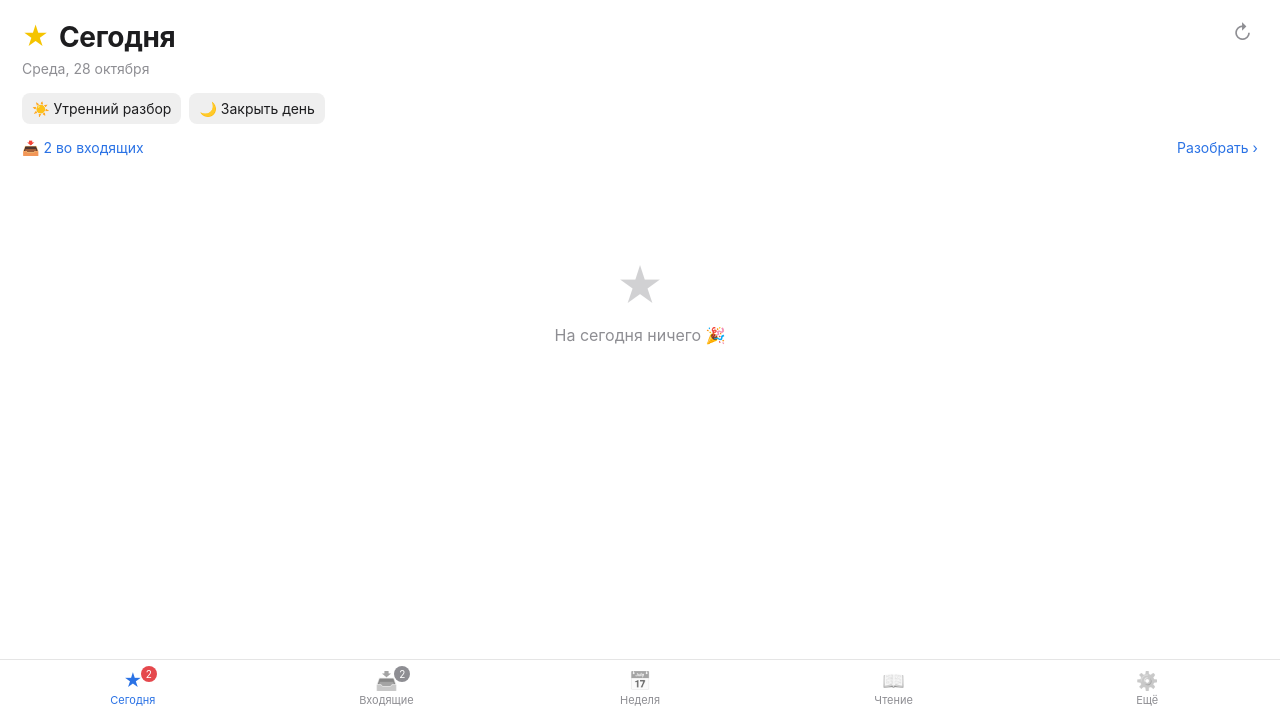
Test: Входящие › «Сегодня» назначает день и убирает элемент из списка
What coordinates should you click on to do the following:
click the tab "📥 Входящие 2"
I would click on:
 (386, 689)
Its box is [260,666,513,712].
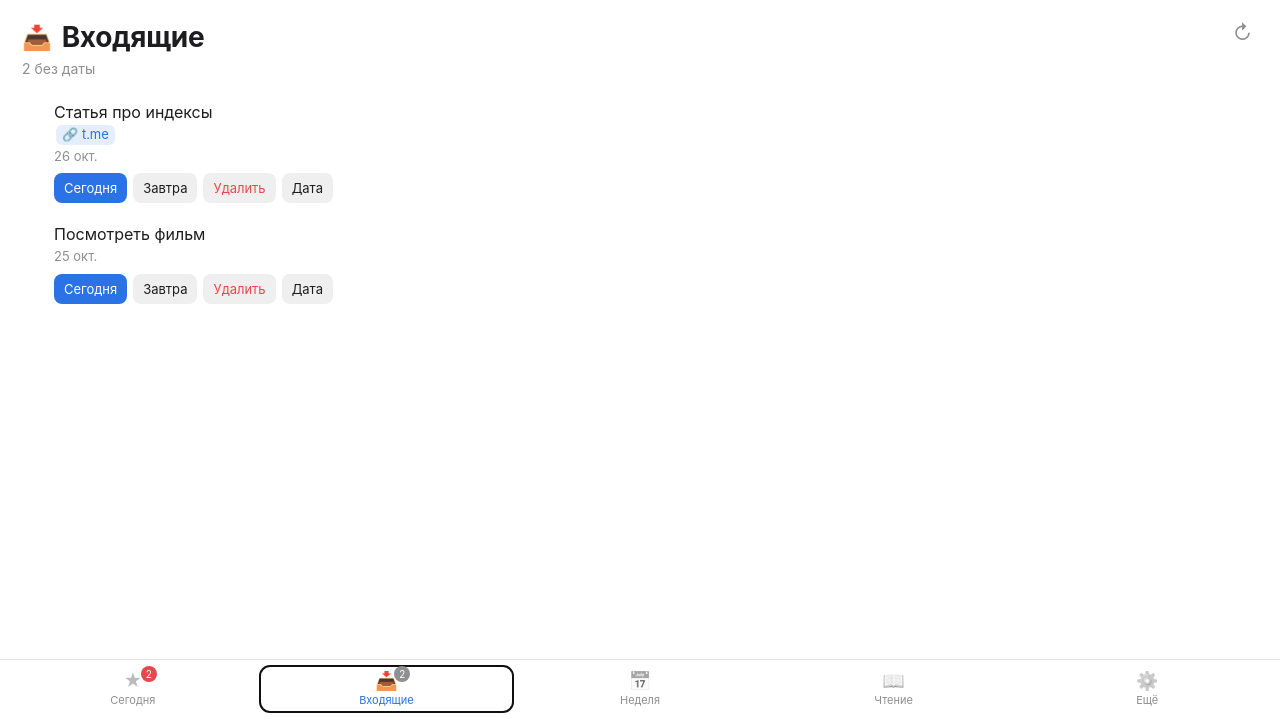
Expected: the text "Статья про индексы" is shown, [54,102,212,122]
What coordinates should you click on to do the following:
click the button "Сегодня" below "26 окт."
I would click on:
 (91, 188)
Its box is [54,173,127,203].
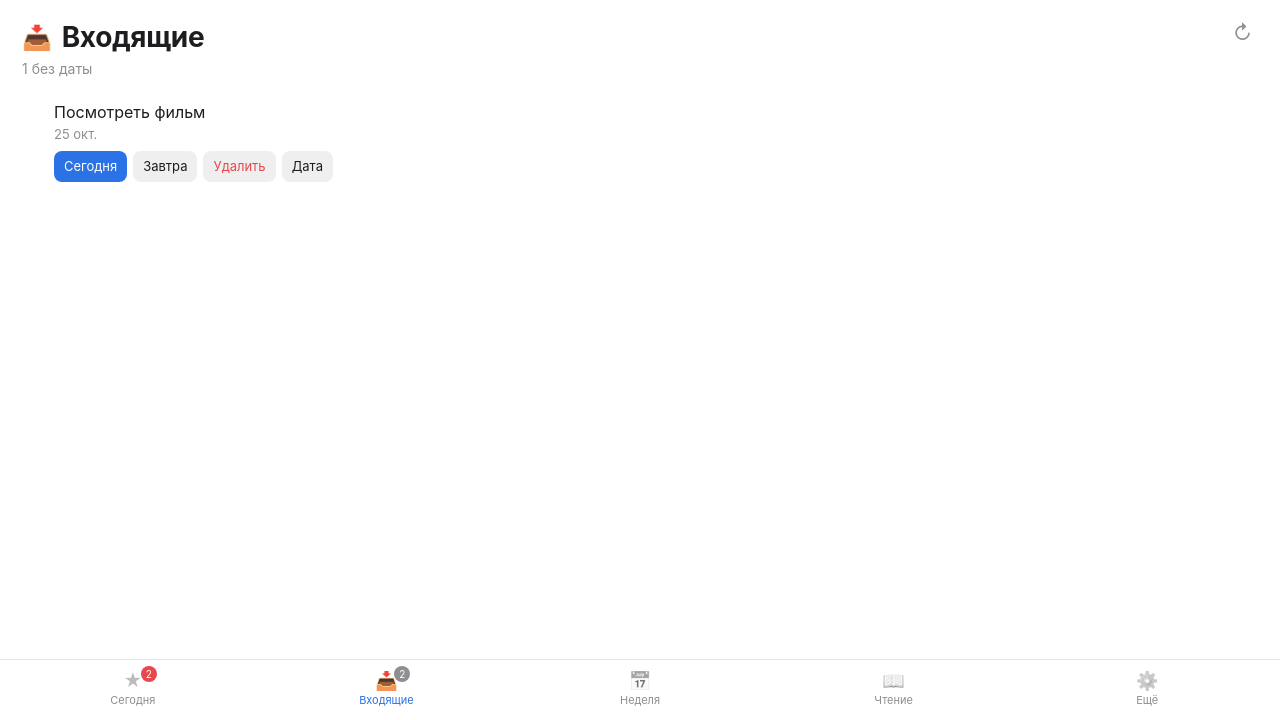
Expected: the text "Статья про индексы" is gone
Expected: the text "1 без даты" is shown, [22,60,92,77]
